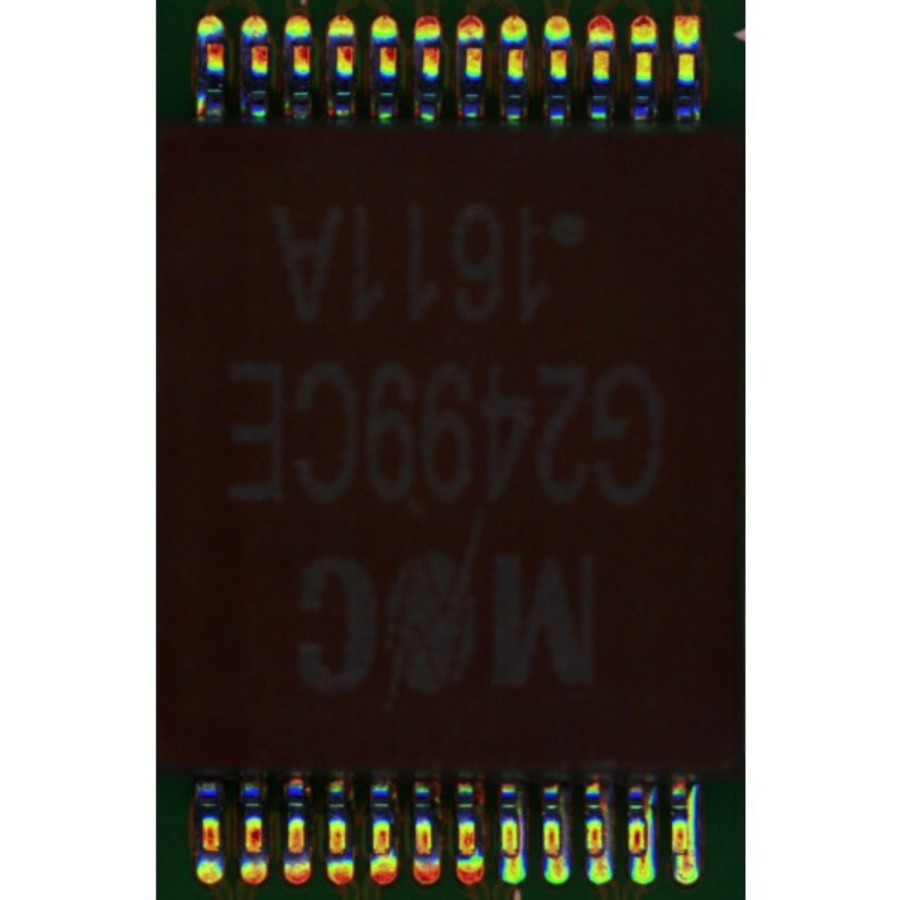Bad_podu: (633, 837, 647, 864), (589, 840, 602, 866), (547, 841, 560, 866), (676, 840, 689, 865), (504, 845, 516, 863)
Bad_qiaojiao: (646, 788, 657, 856), (687, 786, 698, 854), (518, 794, 525, 855)
